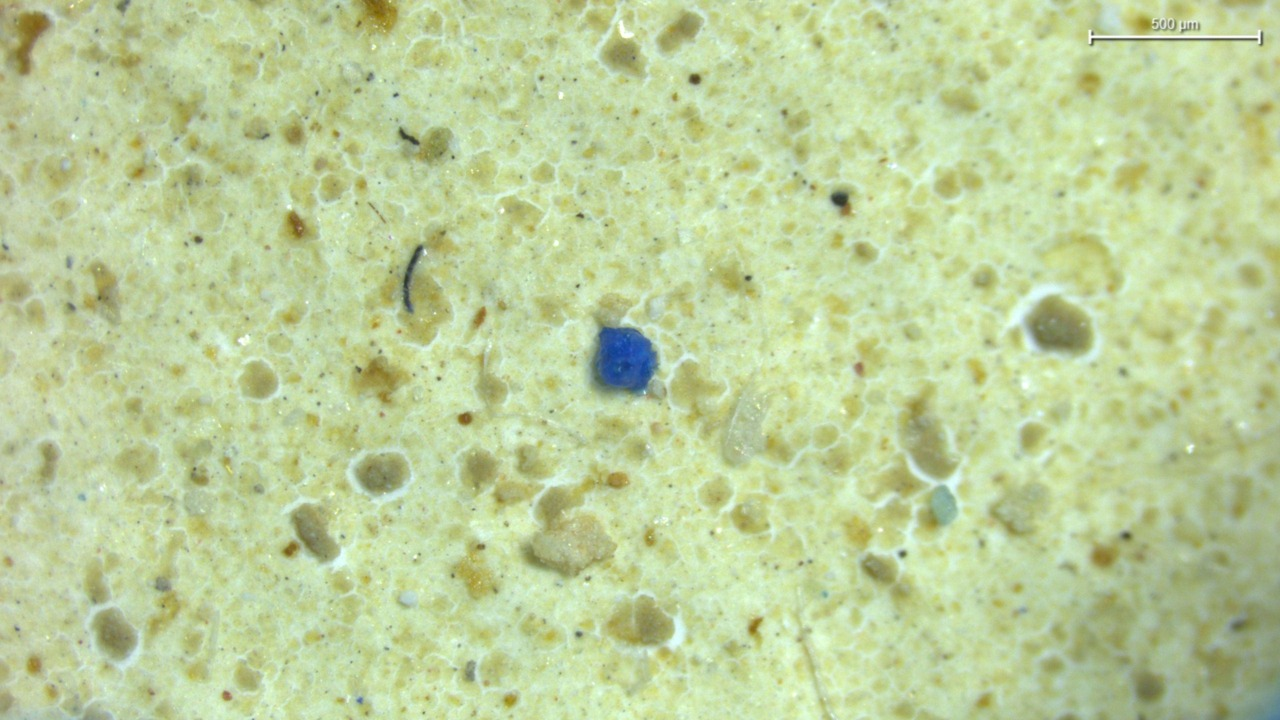microplastic_fragment: (531, 514, 616, 574), (596, 327, 658, 393), (723, 389, 766, 464), (930, 485, 958, 525)
